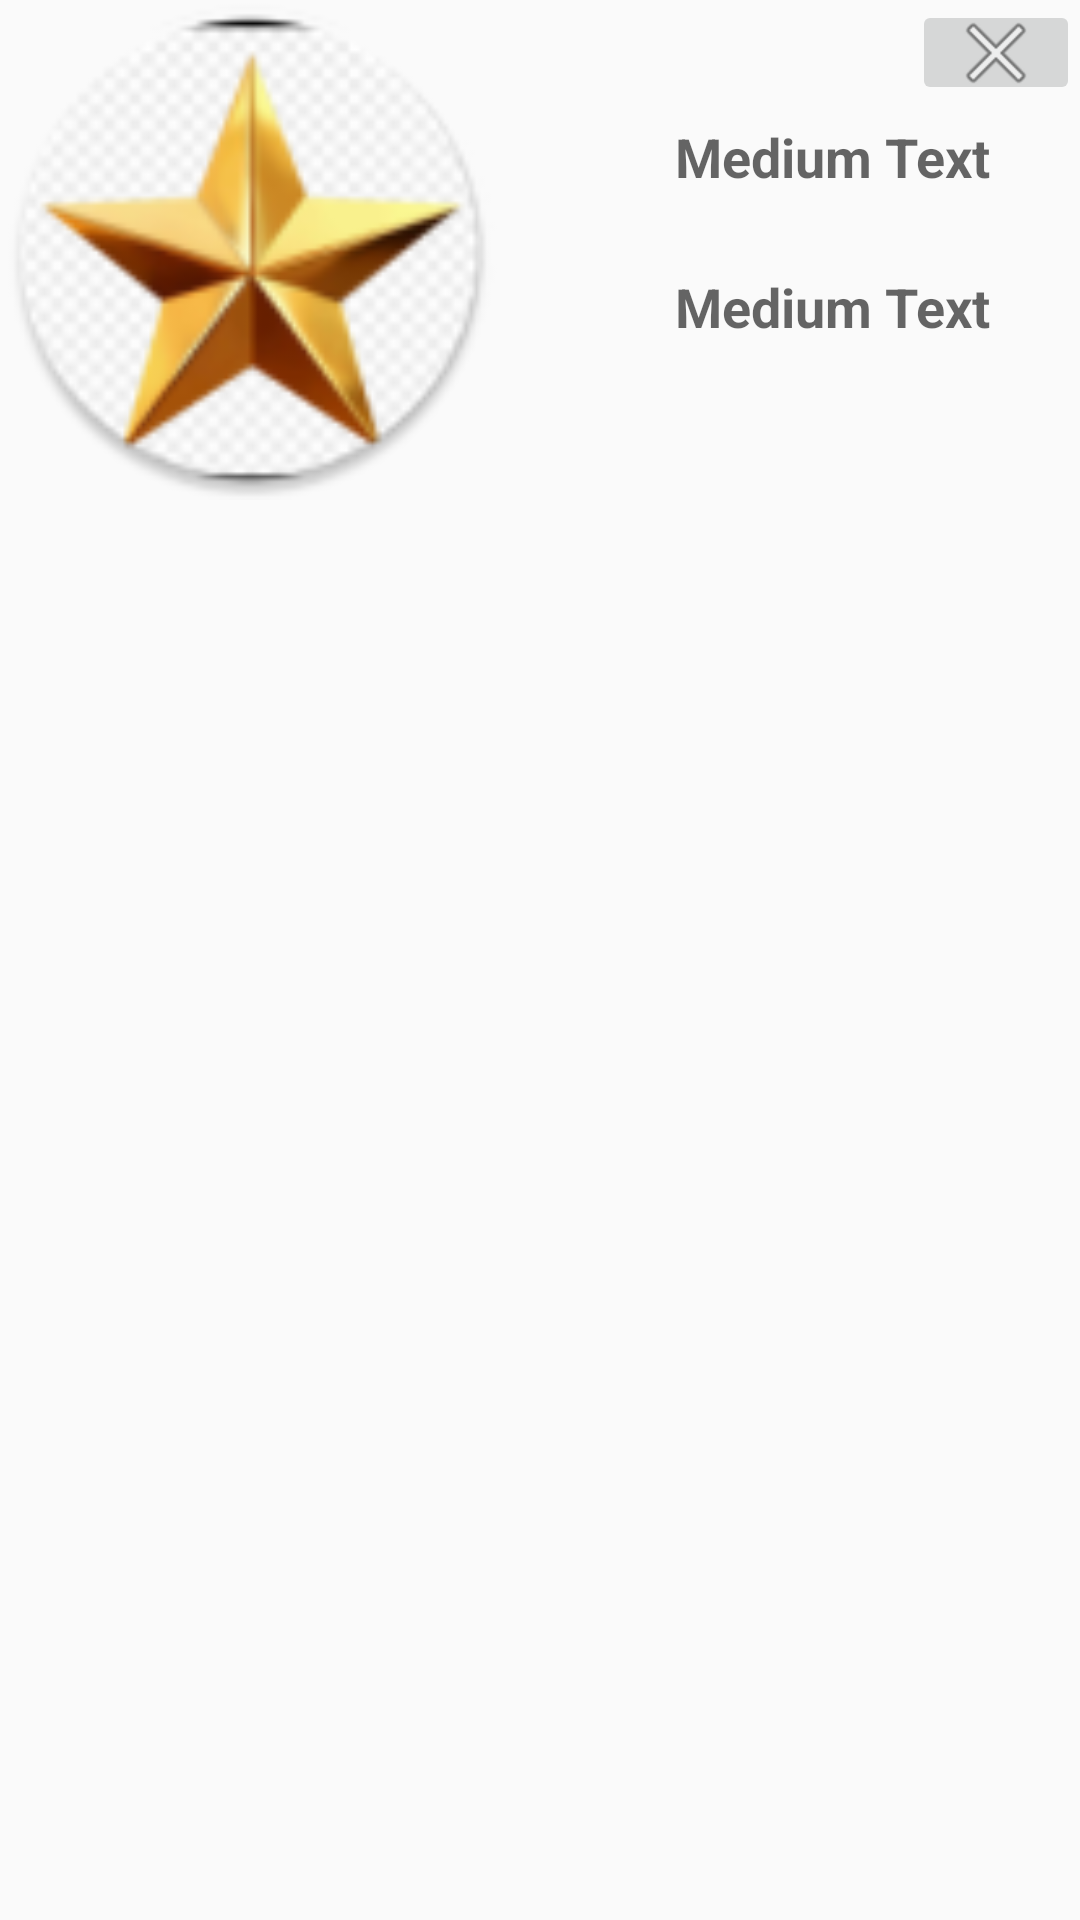

Screen size 1080x1920. Icon name, then its box in pixels as rect(x1, y1, x2, y2):
close clear cancel: rect(924, 18, 1068, 87)
